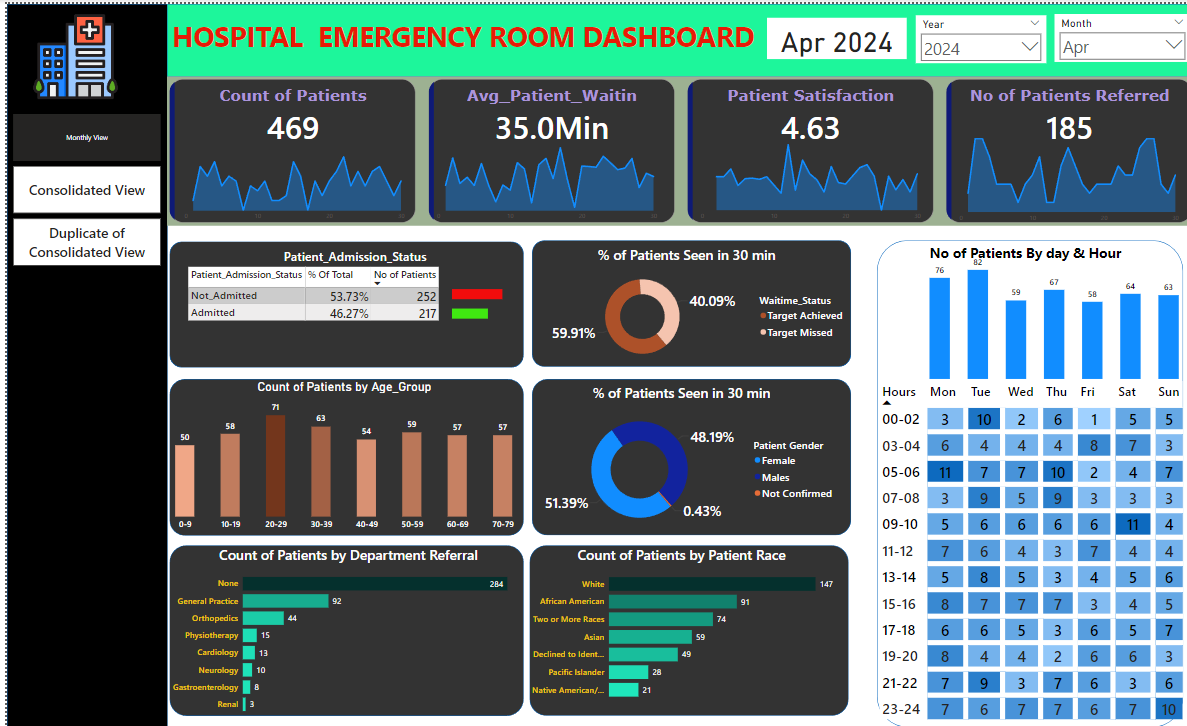

This screenshot's page, from the dashboard's own definition file:
{"tool":"powerbi","page":{"name":"Monthly View","canvas":[2300,1400],"ordinal":0},"visuals":[{"type":"shape","box":[0,0,310.7,1400.5],"z":0},{"type":"shape","box":[310.7,0,1989.8,140.5],"z":1000},{"type":"slicer","fields":{"Values":["Date.Year"]},"box":[1757.5,22.5,252.5,92.5],"z":2000},{"type":"slicer","fields":{"Values":["Date.Month"]},"box":[2027.5,20,262.5,92.5],"z":3000},{"type":"cardVisual","fields":{"Data":["Date.Count of Patients","Date.Avg_Patient_Waitin","Date.Patient Satisfaction","Date.No of Patients Referred"]},"box":[310.7,140.5,1989.8,288.5],"z":4000},{"type":"card","fields":{"Values":["Min(Date.Month & Year)"]},"box":[1470,27.5,270,80],"z":5000},{"type":"areaChart","fields":{"Y":["Date.Count of Patients"],"Category":["Date.Date.Variation.Date Hierarchy.Day"]},"box":[330.4,244.1,446.3,184.9],"z":6000},{"type":"areaChart","fields":{"Y":["Avg(Hospital ER_Data.Patient Waittime)"],"Category":["Date.Date.Variation.Date Hierarchy.Day"]},"box":[821.1,244.1,446.3,184.9],"z":7000},{"type":"areaChart","fields":{"Category":["Date.Date.Variation.Date Hierarchy.Day"],"Y":["Date.Patient Satisfaction"]},"box":[1331.5,244.1,446.3,184.9],"z":8000},{"type":"areaChart","fields":{"Category":["Date.Date.Variation.Date Hierarchy.Day"],"Y":["Date.No of Patients Referred"]},"box":[1830,247.5,445,185],"z":9000},{"type":"shape","box":[315.6,458.6,685.5,244.1],"z":10000},{"type":"pivotTable","title":"Patient_Admission_Status","fields":{"Rows":["Hospital ER_Data.Patient_Admission_Status"],"Values":["Divide(Date.Count of Patients, ScopedEval(Date.Count of Patients, []))","Date.Count of Patients"]},"box":[345.2,470.9,655.9,214.5],"z":11000},{"type":"barChart","fields":{"Category":["Hospital ER_Data.Patient_Admission_Status"],"Y":["Date.No of Patients Referred"]},"box":[855.6,520.3,145.5,115.9],"z":12000},{"type":"shape","box":[315.6,724.9,685.5,303.3],"z":13000},{"type":"shape","box":[315.6,1047.9,685.5,330.4],"z":14000},{"type":"clusteredBarChart","fields":{"Category":["Hospital ER_Data.Department Referral"],"Y":["Date.Count of Patients"]},"box":[315,1047.5,692.5,340],"z":15000},{"type":"columnChart","fields":{"Category":["Hospital ER_Data.Age_Group"],"Y":["Date.Count of Patients"]},"box":[285,725,735,302.5],"z":16000},{"type":"shape","box":[1015,457.5,617.5,245],"z":17000},{"type":"donutChart","title":"% of Patients Seen in 30 min","fields":{"Category":["Hospital ER_Data.Waitime_Status"],"Y":["Date.Count of Patients"]},"box":[1000,467.5,632.5,235],"z":18000},{"type":"shape","box":[1015,725,617.5,302.5],"z":19000},{"type":"donutChart","title":"% of Patients Seen in 30 min","fields":{"Y":["Date.Count of Patients"],"Category":["Hospital ER_Data.Patient Gender"]},"box":[1000,732.5,612.5,295],"z":20000},{"type":"shape","box":[1010,1047.5,617.5,330],"z":21000},{"type":"clusteredBarChart","fields":{"Y":["Date.Count of Patients"],"Category":["Hospital ER_Data.Patient Race"]},"box":[1000,1047.5,612.5,312.5],"z":22000},{"type":"shape","box":[1682.5,457.5,592.5,942.5],"z":23000},{"type":"pivotTable","fields":{"Rows":["Hospital ER_Data.Wait_Time_interval"],"Columns":["Date.Day_Name"],"Values":["Date.Count of Patients"]},"box":[1682.5,725,617.5,675],"z":24000},{"type":"columnChart","fields":{"Category":["Date.Day_Name"],"Y":["Date.Count of Patients"]},"box":[1780,470,495,262.5],"z":25000},{"type":"textbox","box":[1780,457.5,392.5,50],"z":26000},{"type":"pageNavigator","box":[12.5,212.5,285,295],"z":27000},{"type":"image","box":[35,10,197.5,185],"z":28000},{"type":"textbox","box":[315,22.5,1205,95],"z":29000}]}

Visuals, with their boxes on the page's 2300x1400 design canvas (x1, y1, x2, y2). These are canvas units, not pixel positions in the 1187x726 screenshot, which may show the page scaled, cropped or inside an application window:
shape: <box>0,0,311,1400</box>
shape: <box>311,0,2300,140</box>
slicer - Date.Year: <box>1758,22,2010,115</box>
slicer - Date.Month: <box>2028,20,2290,112</box>
cardVisual - Date.Count of Patients x Date.Avg_Patient_Waitin: <box>311,140,2300,429</box>
card - Min(Date.Month & Year): <box>1470,28,1740,108</box>
areaChart - Date.Count of Patients x Date.Date.Variation.Date Hierarchy.Day: <box>330,244,777,429</box>
areaChart - Avg(Hospital ER_Data.Patient Waittime) x Date.Date.Variation.Date Hierarchy.Day: <box>821,244,1267,429</box>
areaChart - Date.Date.Variation.Date Hierarchy.Day x Date.Patient Satisfaction: <box>1332,244,1778,429</box>
areaChart - Date.Date.Variation.Date Hierarchy.Day x Date.No of Patients Referred: <box>1830,248,2275,432</box>
shape: <box>316,459,1001,703</box>
"Patient_Admission_Status" pivotTable: <box>345,471,1001,685</box>
barChart - Hospital ER_Data.Patient_Admission_Status x Date.No of Patients Referred: <box>856,520,1001,636</box>
shape: <box>316,725,1001,1028</box>
shape: <box>316,1048,1001,1378</box>
clusteredBarChart - Hospital ER_Data.Department Referral x Date.Count of Patients: <box>315,1048,1008,1388</box>
columnChart - Hospital ER_Data.Age_Group x Date.Count of Patients: <box>285,725,1020,1028</box>
shape: <box>1015,458,1632,702</box>
"% of Patients Seen in 30 min" donutChart: <box>1000,468,1632,702</box>
shape: <box>1015,725,1632,1028</box>
"% of Patients Seen in 30 min" donutChart: <box>1000,732,1612,1028</box>
shape: <box>1010,1048,1628,1378</box>
clusteredBarChart - Date.Count of Patients x Hospital ER_Data.Patient Race: <box>1000,1048,1612,1360</box>
shape: <box>1682,458,2275,1400</box>
pivotTable - Hospital ER_Data.Wait_Time_interval x Date.Day_Name: <box>1682,725,2300,1400</box>
columnChart - Date.Day_Name x Date.Count of Patients: <box>1780,470,2275,732</box>
textbox: <box>1780,458,2172,508</box>
pageNavigator: <box>12,212,298,508</box>
image: <box>35,10,232,195</box>
textbox: <box>315,22,1520,118</box>
